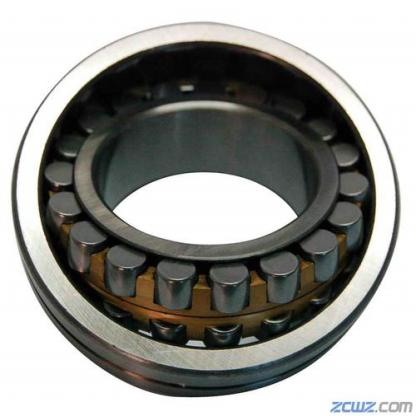FOD: (10, 15, 401, 400)
